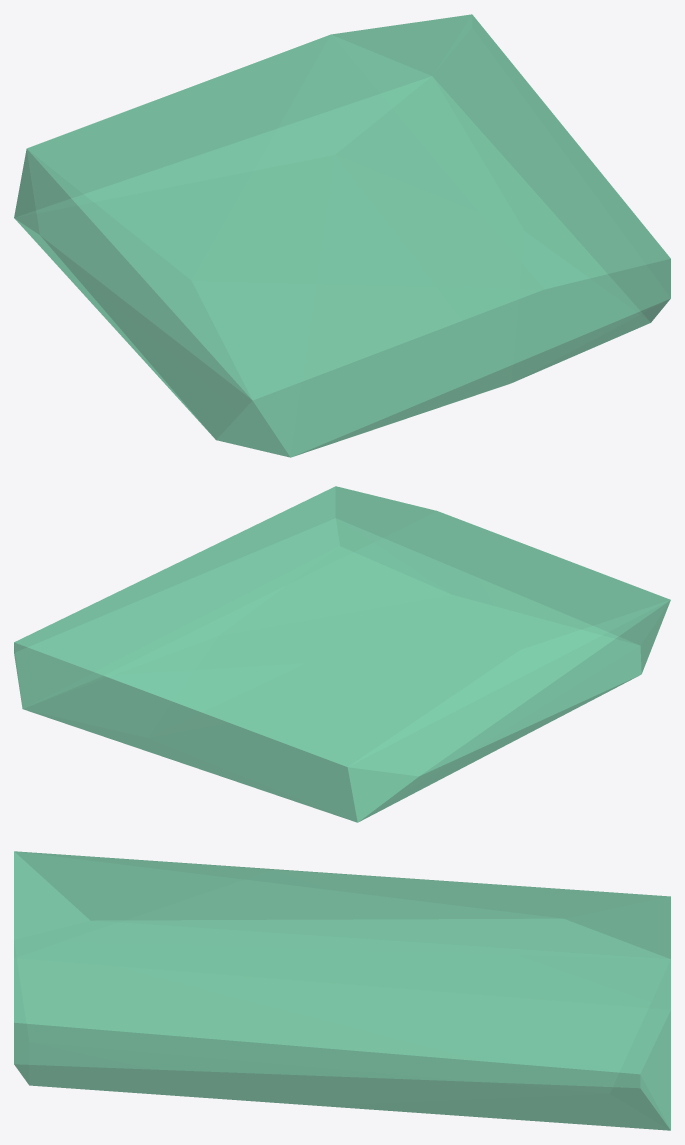
3 views of the same model, one above another, from view 1: azimuth 30°, elevation 25°; view 2: azimuth 150°, elevation 25°; view 3: azimuth 270°, elevation 25° (orthographic). The views are drawn at different scales.
Parts seen in each view (by area): view 1: Shape_IndexedFaceSet.032_Shape_IndexedFaceSet.16434; view 2: Shape_IndexedFaceSet.032_Shape_IndexedFaceSet.16434; view 3: Shape_IndexedFaceSet.032_Shape_IndexedFaceSet.16434.
Part boxes in pixels (x1=…): Shape_IndexedFaceSet.032_Shape_IndexedFaceSet.16434: x1=14, y1=14, x2=670, y2=457; Shape_IndexedFaceSet.032_Shape_IndexedFaceSet.16434: x1=14, y1=486, x2=670, y2=822; Shape_IndexedFaceSet.032_Shape_IndexedFaceSet.16434: x1=14, y1=851, x2=670, y2=1130.
Bounding box in the file's own units: 0.00942 × 0.00184 × 0.00988.
